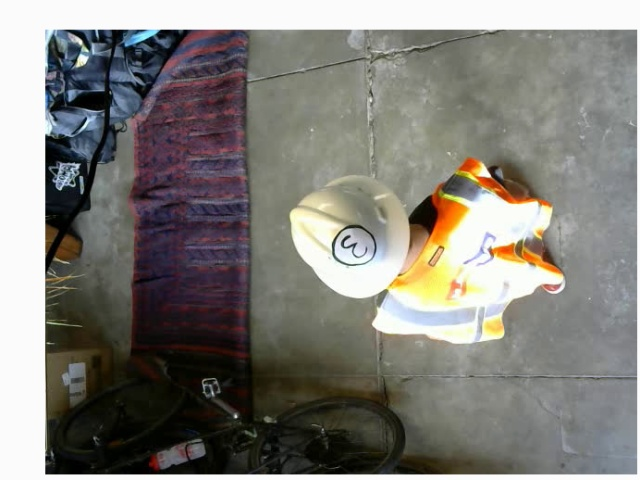three: (331, 224, 376, 265)
